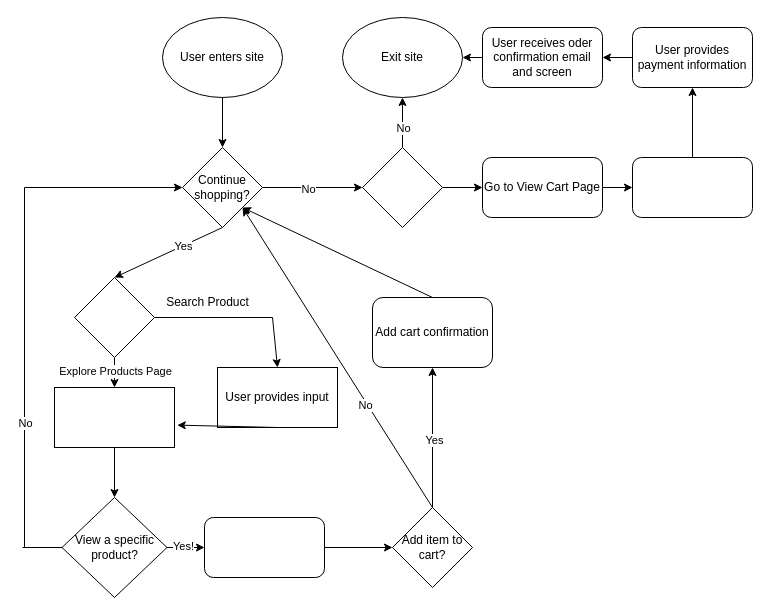
Some shapes in this 770 by 615 pixel diagram are drawn without their labels. The box of each missing label's shape, as (x1, y1, x2, y2) in pixels:
Checkout?: (362, 146, 442, 228)
Find product: (74, 276, 154, 358)
Go to View Payment page: (632, 156, 752, 218)
Open product page: (204, 516, 324, 578)
Review Page Products: (54, 386, 174, 448)
